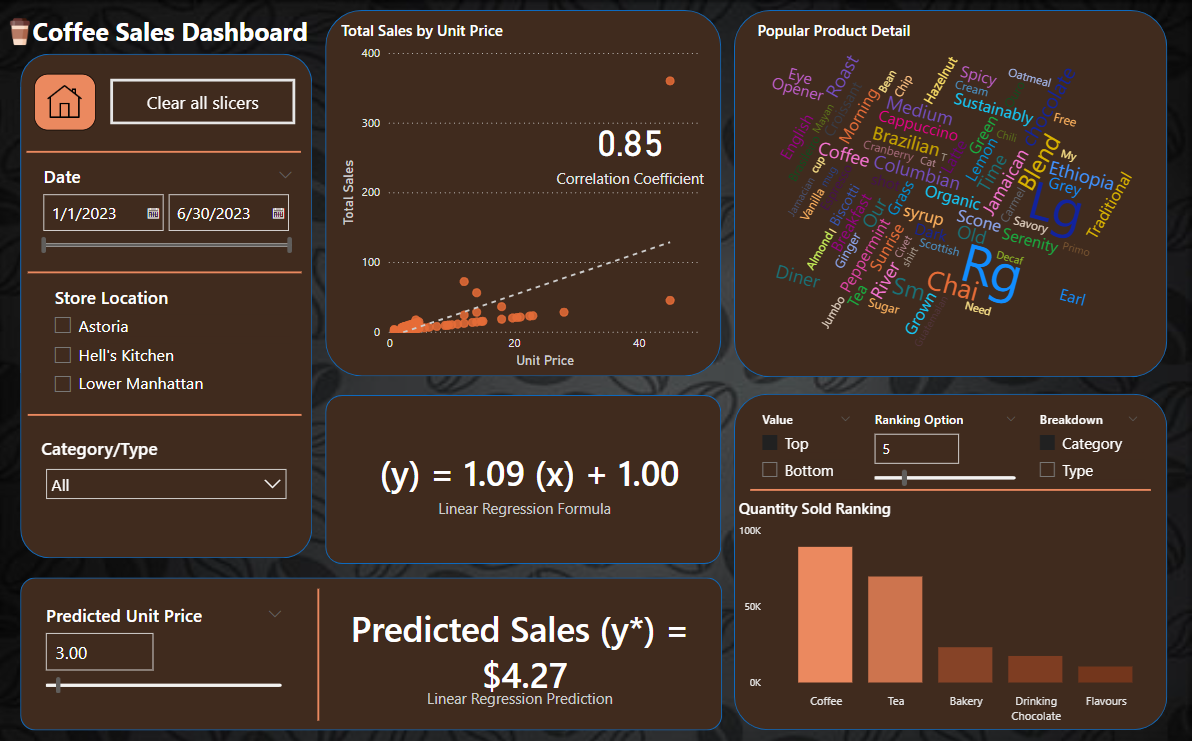

What the dashboard file says about the page in this screenshot:
{"tool":"powerbi","page":{"name":"Product Report","canvas":[1280,800],"ordinal":1},"visuals":[{"type":"shape","box":[350.5,10.6,424.6,392.9],"z":0},{"type":"scatterChart","title":"Total Sales by Unit Price","fields":{"X":["Fact_Sales.unit_price"],"Y":["Fact_Sales.Sales"]},"box":[362.4,21.2,403.4,378.3],"z":1000},{"type":"shape","box":[787.7,422.7,464.6,360.7],"z":2000},{"type":"shape","box":[23.1,57.7,313.1,541],"z":3000},{"type":"slicer","fields":{"Values":["Dim_Date.Date"]},"box":[34.4,172,292.3,103.2],"z":4000},{"type":"shape","box":[28.9,154.4,294.3,17.3],"z":5000},{"type":"shape","box":[350.5,423.3,424.6,181.2],"z":6000},{"type":"shape","box":[787.7,10.1,464.6,393.9],"z":7000},{"type":"textbox","box":[30.3,10.1,331.8,47.6],"z":8000},{"type":"image","box":[0,14.4,44.7,39],"z":9000},{"type":"WordCloud1447959067750","title":"Popular Product Detail","fields":{"Category":["Dim_Product.product_detail"],"Values":["Key Measures.Total Quantity Sold"]},"box":[807.9,21.6,444.4,389.5],"z":10000},{"type":"slicer","fields":{"Values":["Dim_Store.store_location"]},"box":[46.3,301.6,271.2,133.6],"z":11000},{"type":"slicer","title":"Category/Type","fields":{"Values":["Dim_Category.product_category","Dim_Type.product_type"]},"box":[39.7,468.3,277.8,92.6],"z":12000},{"type":"card","fields":{"Values":["Dim_Category.unit_price and Sales correlation for Sales"]},"box":[588.6,116.9,177.5,89.5],"z":13000},{"type":"card","fields":{"Values":["Key Measures.linear_regression_formula"]},"box":[362.1,435.7,404,164.5],"z":14000},{"type":"shape","box":[22.5,619.1,752.6,164],"z":15000},{"type":"card","fields":{"Values":["Key Measures.Linear Regression Prediction"]},"box":[353.2,624.3,412.7,157.4],"z":16000},{"type":"slicer","fields":{"Values":["Predicted Sales.Predicted Sales"]},"box":[37.5,642,278.5,122.6],"z":17000},{"type":"shape","box":[30.4,283.1,293.7,18.5],"z":18000},{"type":"actionButton","box":[119,84.7,198.4,48.9],"z":19000},{"type":"shape","box":[333.3,631.9,17.3,141.4],"z":20000},{"type":"slicer","fields":{"Values":["Ranking Option.Ranking Option"]},"box":[925.9,435.2,177.2,88.6],"z":21000},{"type":"slicer","fields":{"Values":["TopBottom.Value"]},"box":[805.6,435.2,120.4,88.6],"z":22000},{"type":"slicer","fields":{"Values":["Breakdown.Breakdown"]},"box":[1103.2,435.2,131,88.6],"z":23000},{"type":"columnChart","title":"Quantity Sold Ranking","fields":{"Category":["Dim_Category.product_category"],"Y":["Key Measures.Ranking Product"]},"box":[787.7,533.8,464.6,249.6],"z":24000},{"type":"shape","box":[30.4,435.2,293.7,18.5],"z":25000},{"type":"image","box":[37.5,79.4,66.4,60.6],"z":26000},{"type":"shape","box":[805.1,518,429.9,15.9],"z":27000}]}

Visuals, with their boxes in screenshot pixels (x1, y1, x2, y2), scaled from the page's 1280x800 canvas onto the 1192x741 screenshot:
shape: detection(326, 10, 722, 374)
"Total Sales by Unit Price" scatterChart: detection(337, 20, 713, 370)
shape: detection(734, 392, 1166, 726)
shape: detection(22, 53, 313, 555)
slicer - Dim_Date.Date: detection(32, 159, 304, 255)
shape: detection(27, 143, 301, 159)
shape: detection(326, 392, 722, 560)
shape: detection(734, 9, 1166, 374)
textbox: detection(28, 9, 337, 53)
image: detection(0, 13, 42, 49)
"Popular Product Detail" WordCloud1447959067750: detection(752, 20, 1166, 381)
slicer - Dim_Store.store_location: detection(43, 279, 296, 403)
"Category/Type" slicer: detection(37, 434, 296, 520)
card - Dim_Category.unit_price and Sales correlation for Sales: detection(548, 108, 713, 191)
card - Key Measures.linear_regression_formula: detection(337, 404, 713, 556)
shape: detection(21, 573, 722, 725)
card - Key Measures.Linear Regression Prediction: detection(329, 578, 713, 724)
slicer - Predicted Sales.Predicted Sales: detection(35, 595, 294, 708)
shape: detection(28, 262, 302, 279)
actionButton: detection(111, 78, 296, 124)
shape: detection(310, 585, 326, 716)
slicer - Ranking Option.Ranking Option: detection(862, 403, 1027, 485)
slicer - TopBottom.Value: detection(750, 403, 862, 485)
slicer - Breakdown.Breakdown: detection(1027, 403, 1149, 485)
"Quantity Sold Ranking" columnChart: detection(734, 494, 1166, 726)
shape: detection(28, 403, 302, 420)
image: detection(35, 74, 97, 130)
shape: detection(750, 480, 1150, 495)
